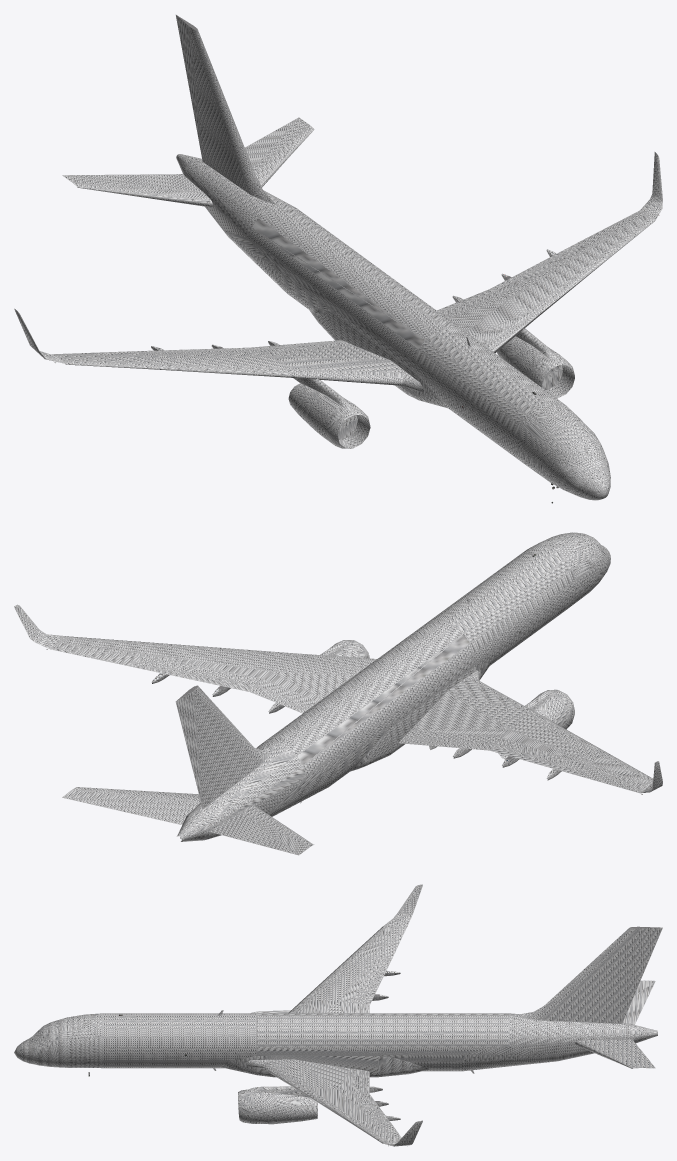
File: AIG_B757-200_RR_W_LOD1.gltf
3 renders of one model, top to bottom at view 1: azimuth 30°, elevation 25°; view 2: azimuth 150°, elevation 25°; view 3: azimuth 270°, elevation 25°, orthographic. The views are drawn at different scales.
Parts seen in each view (by area): view 1: fuselage_RR_low_LOD; view 2: fuselage_RR_low_LOD; view 3: fuselage_RR_low_LOD.
Boxes of the visible parts, x1,y1,x2,y2 form: fuselage_RR_low_LOD: (14,15,662,500); fuselage_RR_low_LOD: (14,532,662,855); fuselage_RR_low_LOD: (14,884,662,1146).
Bounding box in the file's own units: 40.78 × 12.91 × 47.34.
